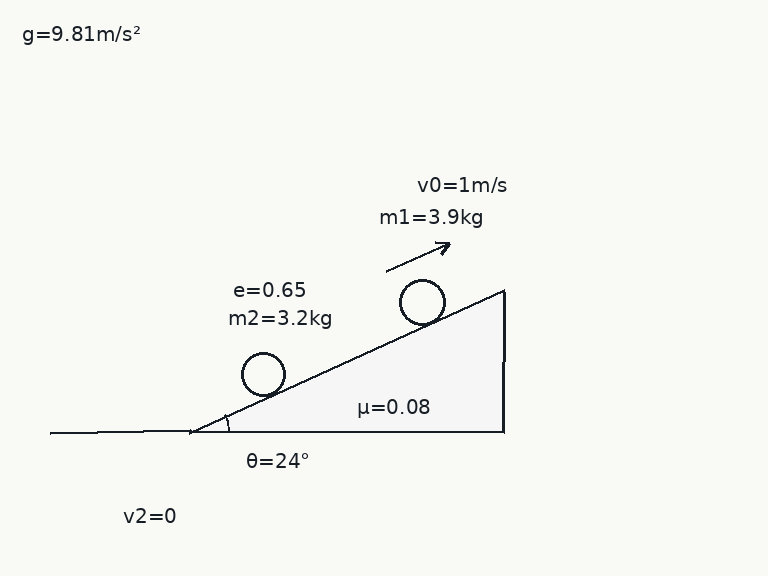ball: (397, 277, 447, 327), (239, 350, 287, 398)
ramp: (187, 289, 506, 433)
